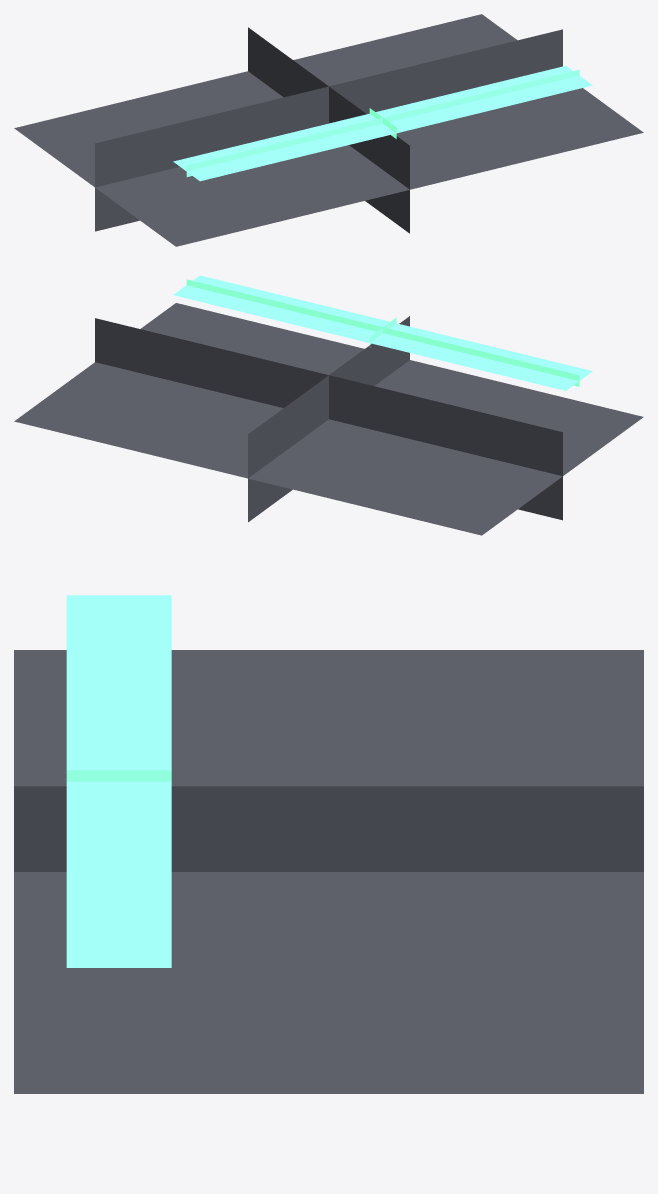
The model's file is lab_switch.glb.
3 renders of one model, top to bottom at view 1: azimuth 30°, elevation 25°; view 2: azimuth 150°, elevation 25°; view 3: azimuth 270°, elevation 25°, orthographic. The views are drawn at different scales.
Parts seen in each view (by area): view 1: lab_switch; view 2: lab_switch; view 3: lab_switch.
Part boxes in pixels (bbox=[...]): lab_switch: bbox=[14, 14, 643, 246]; lab_switch: bbox=[14, 275, 643, 535]; lab_switch: bbox=[14, 595, 643, 1093].
Size of the model in its own units: 1 by 0.197 by 0.6.
